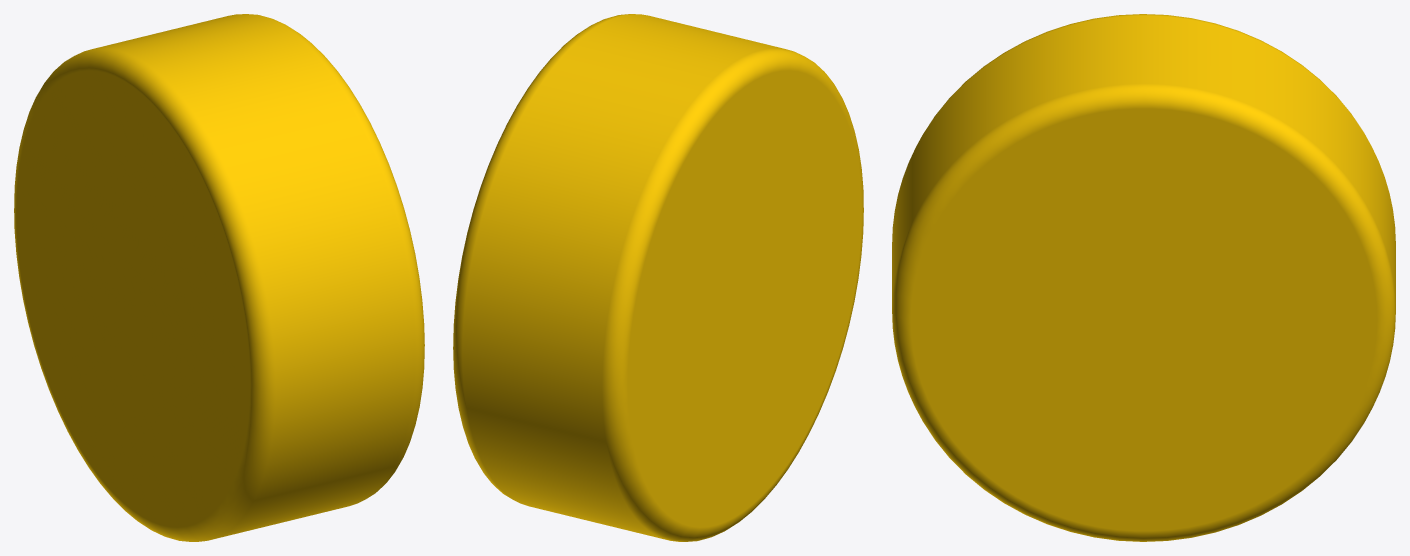
File: wheel.dae
3 views of the same model, side by side, from view 1: azimuth 30°, elevation 25°; view 2: azimuth 150°, elevation 25°; view 3: azimuth 270°, elevation 25° (orthographic).
Visible parts, largest first — view 1: Brep; view 2: Brep; view 3: Brep.
Part boxes in pixels (x1,y1,x2,y2): Brep: [14, 14, 424, 541]; Brep: [453, 14, 863, 541]; Brep: [892, 14, 1395, 541].
Bounding box in the file's own units: 1.24 × 3.15 × 3.15.
